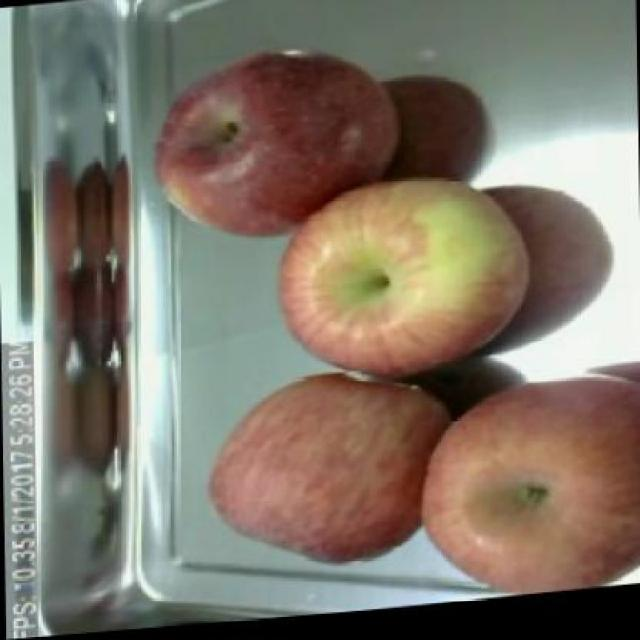Fresh Apple: (272, 171, 533, 369), (431, 374, 639, 604), (221, 359, 441, 562), (160, 55, 397, 241)
